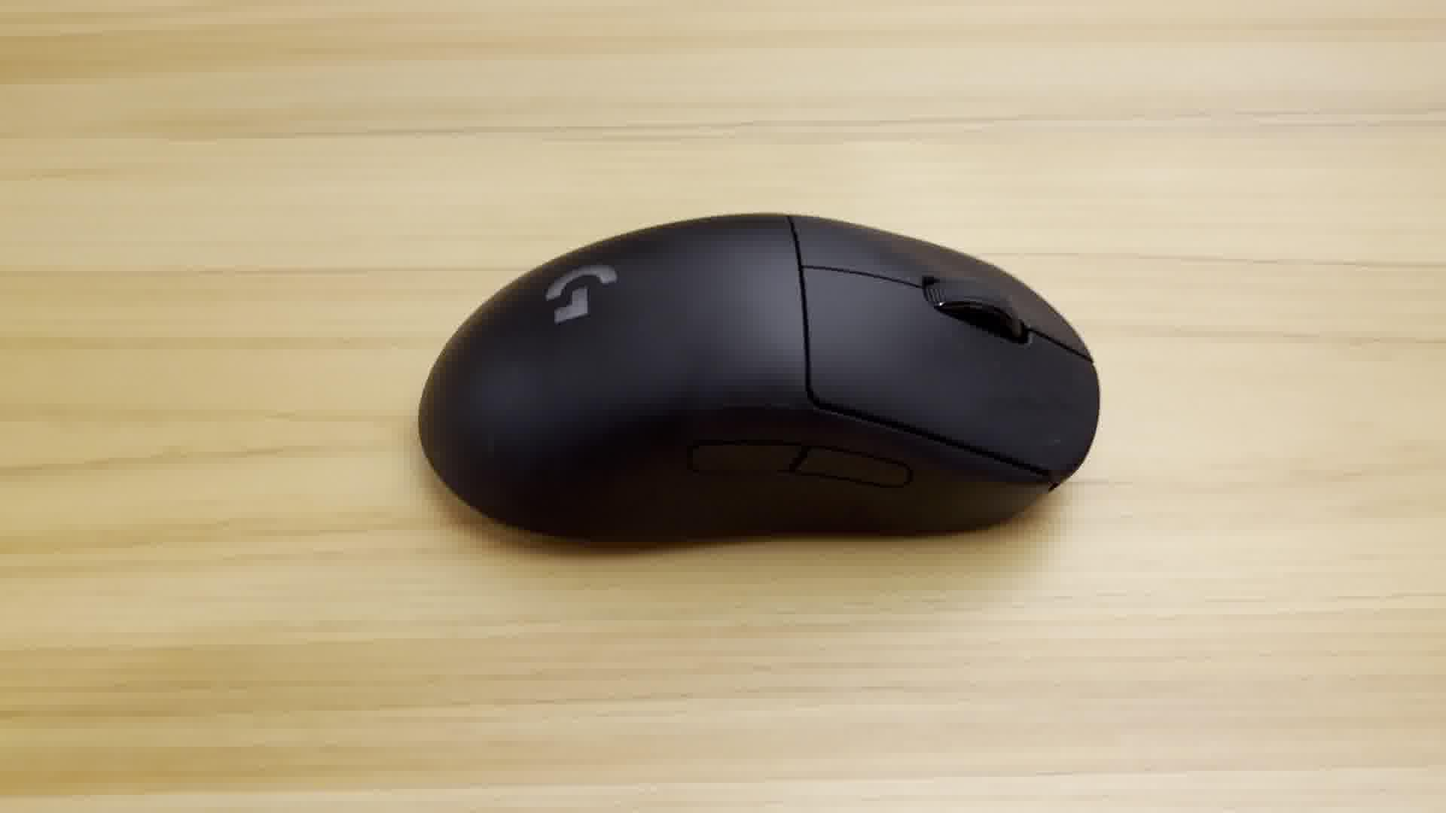logicool: (415, 205, 1104, 566)
